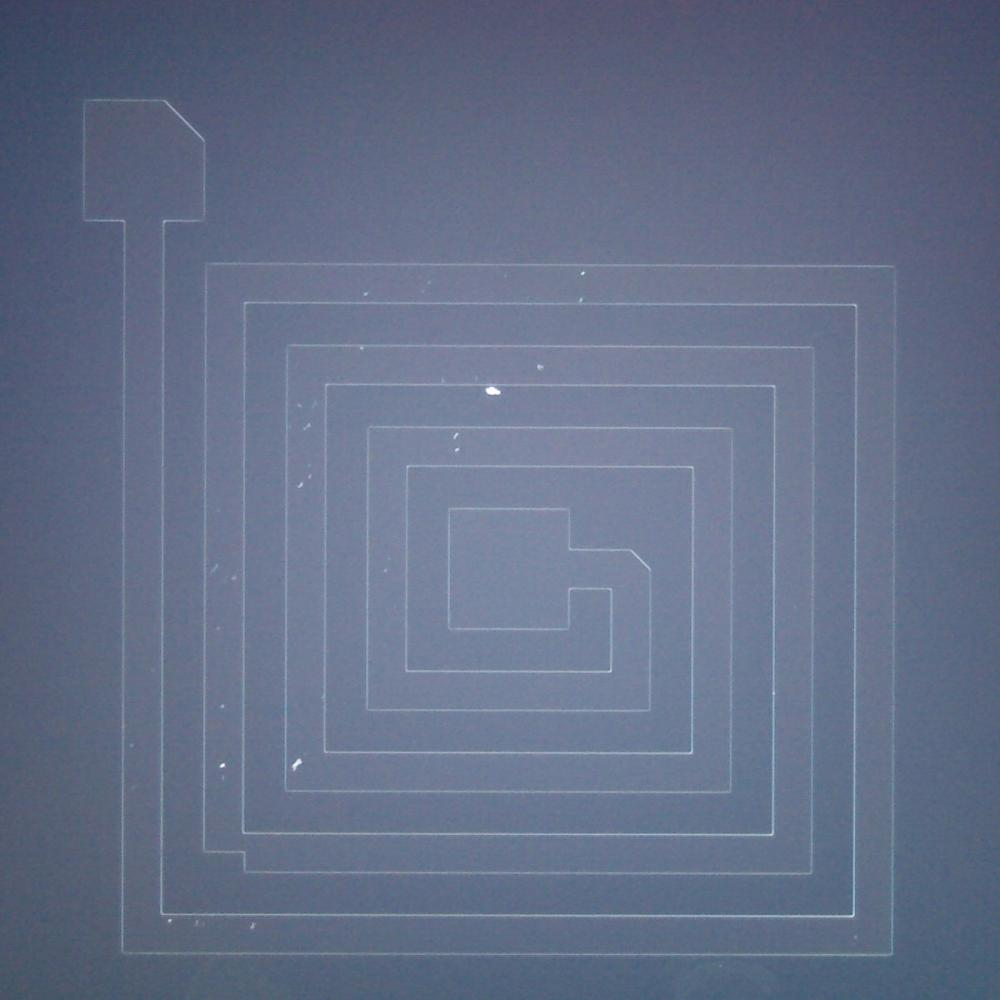dot: (291, 758, 303, 772), (486, 386, 498, 397), (452, 432, 459, 440), (297, 482, 303, 489), (537, 364, 543, 370), (454, 447, 460, 453), (308, 474, 314, 480), (220, 762, 225, 768), (168, 919, 173, 924), (580, 271, 585, 276)
